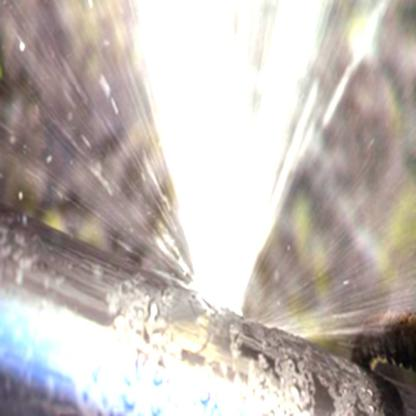burst: (157, 231, 283, 351)
